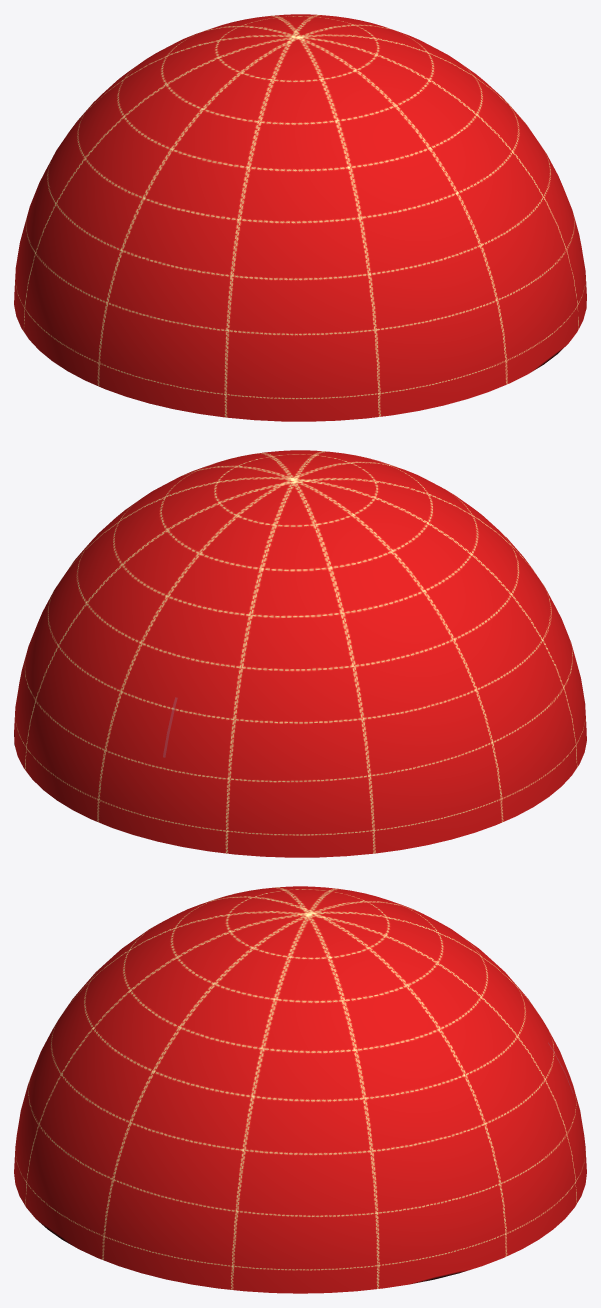
The model's file is 范围半圆v1.0.3.glb.
3 renders of one model, top to bottom at view 1: azimuth 30°, elevation 25°; view 2: azimuth 150°, elevation 25°; view 3: azimuth 270°, elevation 25°, orthographic.
Parts seen in each view (by area): view 1: 范围碗; view 2: 范围碗; view 3: 范围碗.
Boxes of the visible parts, left/top/right/bottom form: 范围碗: left=14, top=14, right=586, bottom=421; 范围碗: left=14, top=450, right=586, bottom=857; 范围碗: left=14, top=886, right=586, bottom=1293.
Bounding box in the file's own units: 200 × 100 × 200.
Materials: 2 (1 with a texture image).
